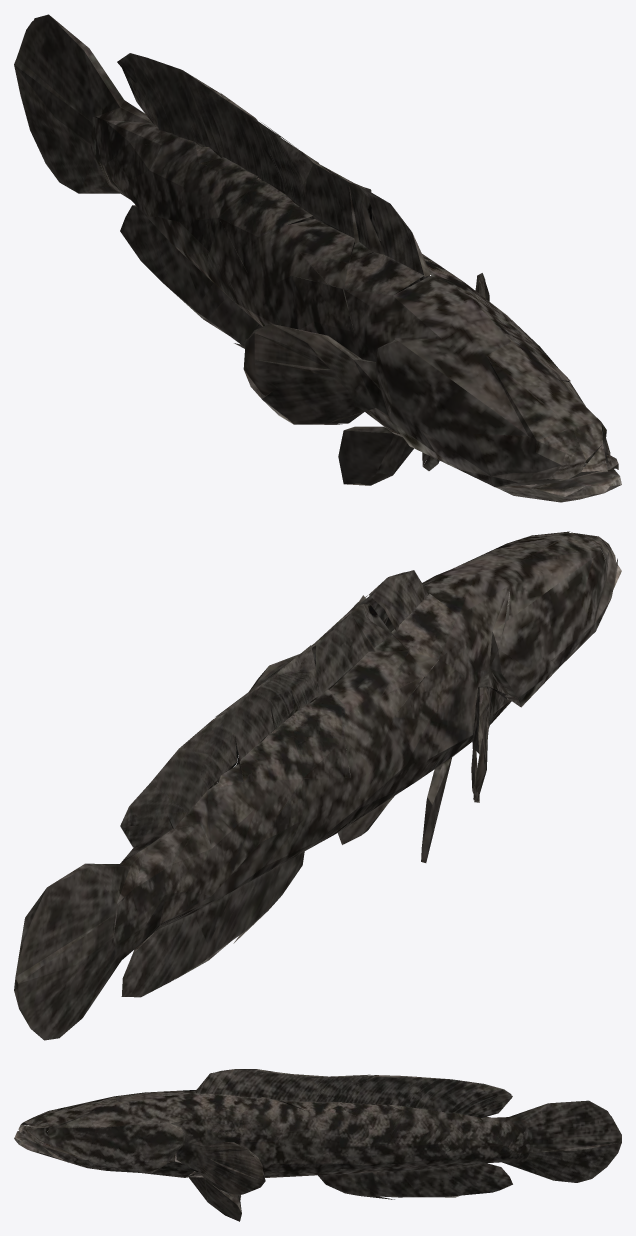
Rendered from snakehead.glb.
3 renders of one model, top to bottom at view 1: azimuth 30°, elevation 25°; view 2: azimuth 150°, elevation 25°; view 3: azimuth 270°, elevation 25°, orthographic. The views are drawn at different scales.
Visible parts, largest first — view 1: output_unwrapped; view 2: output_unwrapped; view 3: output_unwrapped.
Part boxes in pixels (x1=…): output_unwrapped: x1=14, y1=14, x2=621, y2=502; output_unwrapped: x1=14, y1=531, x2=621, y2=1040; output_unwrapped: x1=14, y1=1069, x2=621, y2=1221.
Size of the model in its own units: 0.1889 by 0.2069 by 0.8.
1 material, 1 textured.
